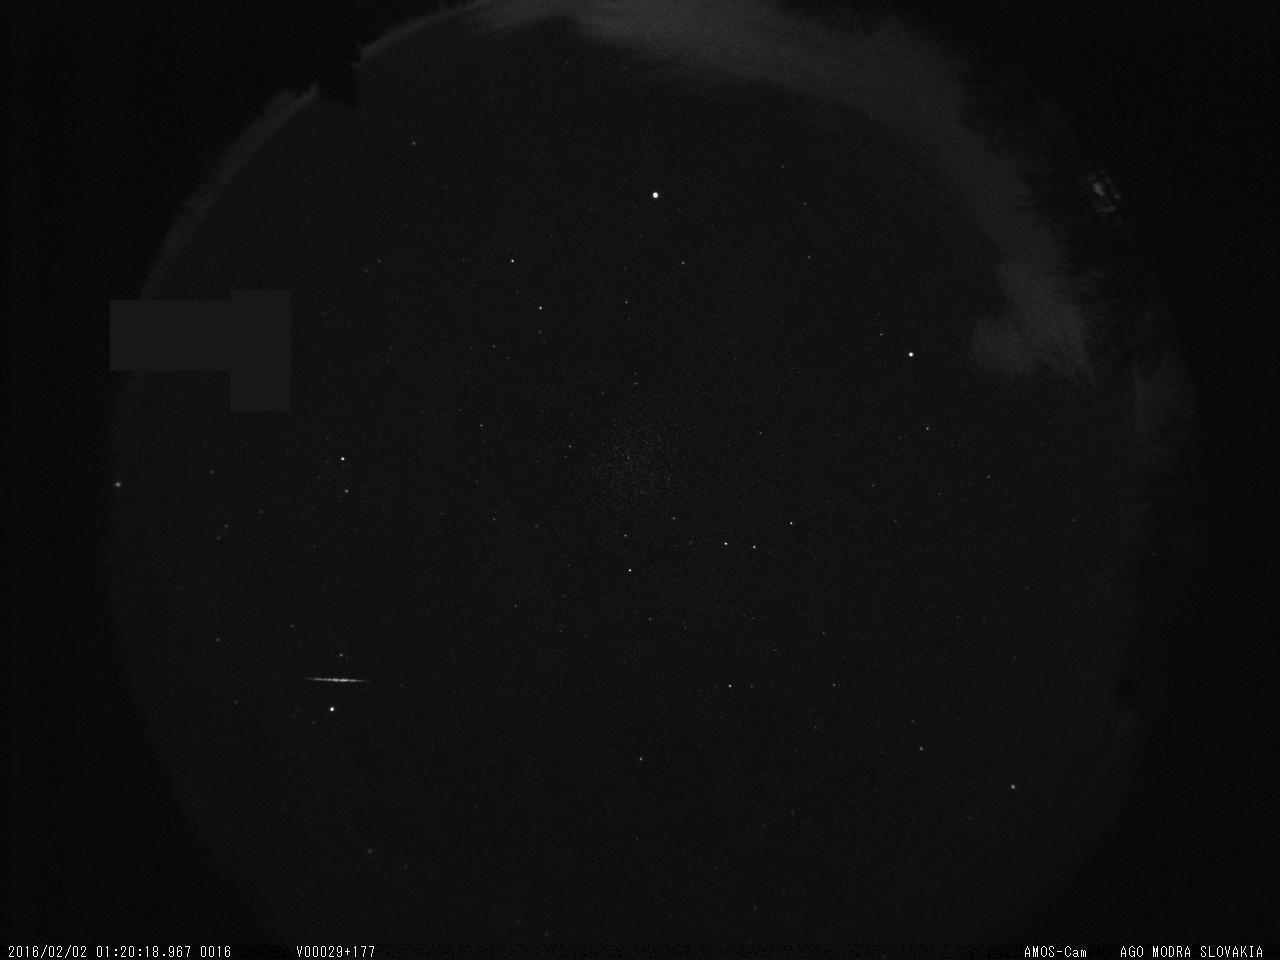Meteor: (296, 667, 380, 692)
